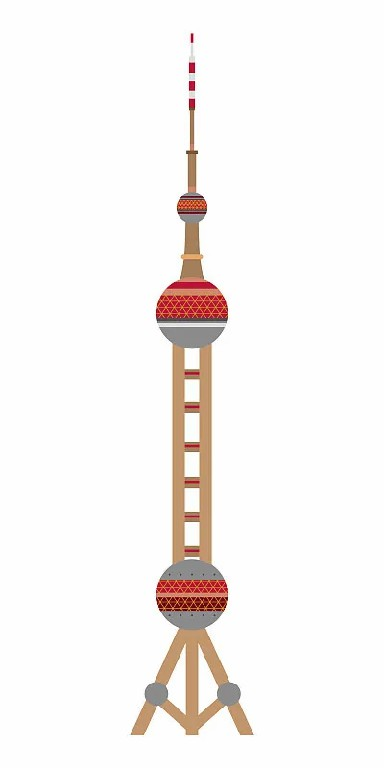Oriental: (130, 34, 254, 736)
